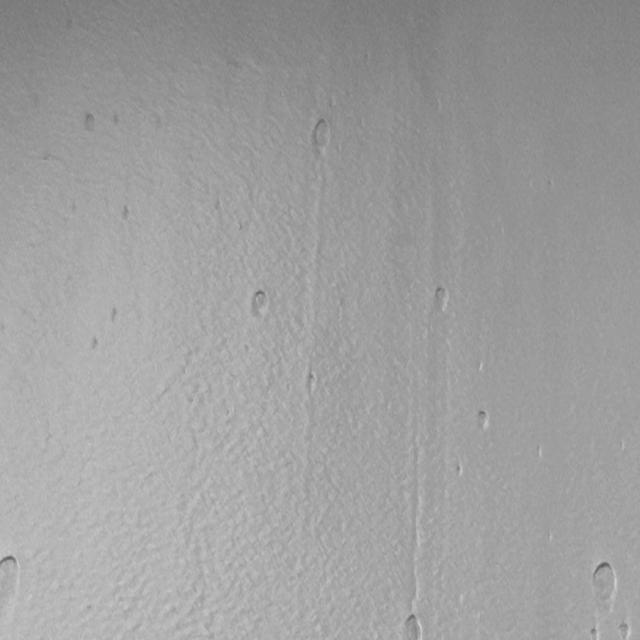pin holes: (588, 561, 618, 611), (306, 118, 333, 154), (1, 555, 24, 594), (247, 287, 270, 320), (401, 611, 424, 640), (432, 284, 452, 312), (79, 112, 100, 137), (474, 409, 492, 433), (304, 371, 321, 396), (121, 204, 137, 226), (88, 333, 104, 355), (616, 621, 634, 640), (533, 440, 544, 468), (615, 438, 627, 460), (110, 306, 123, 325), (586, 625, 602, 640), (111, 112, 125, 129), (476, 356, 486, 379), (452, 463, 464, 481)
